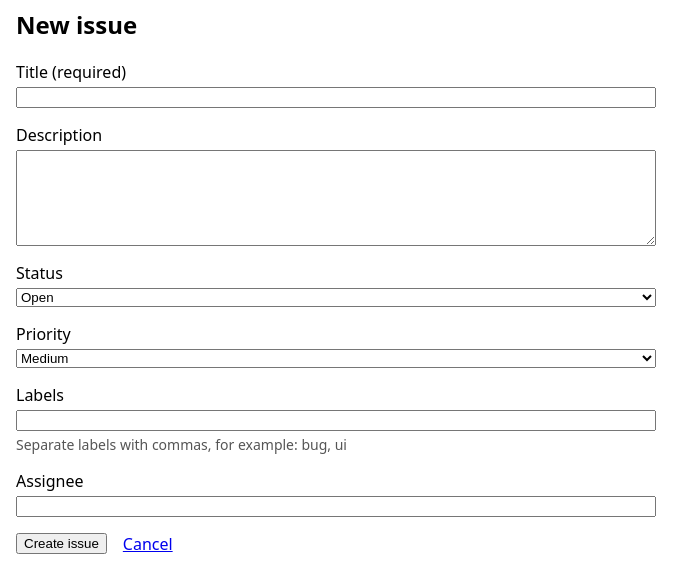
Test: IssueCreateView › disables the submit button while creating
In the field with id "issue-title": {"x": 336, "y": 97} [16, 87, 656, 108], type "Slow"
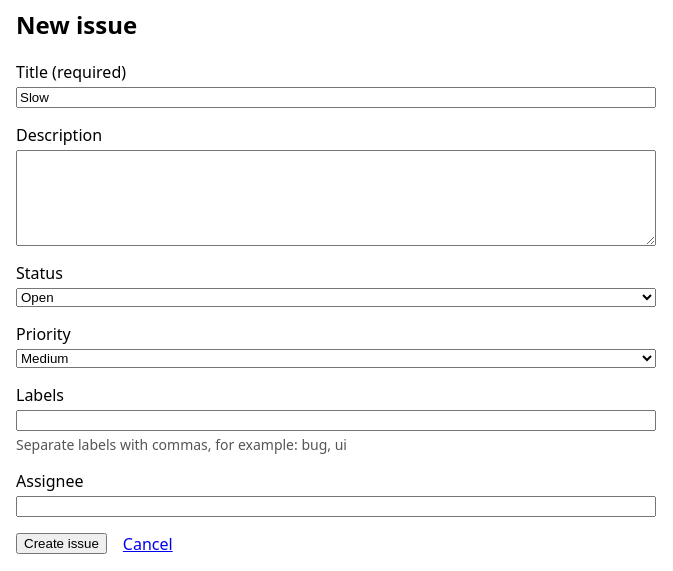
Submit the form
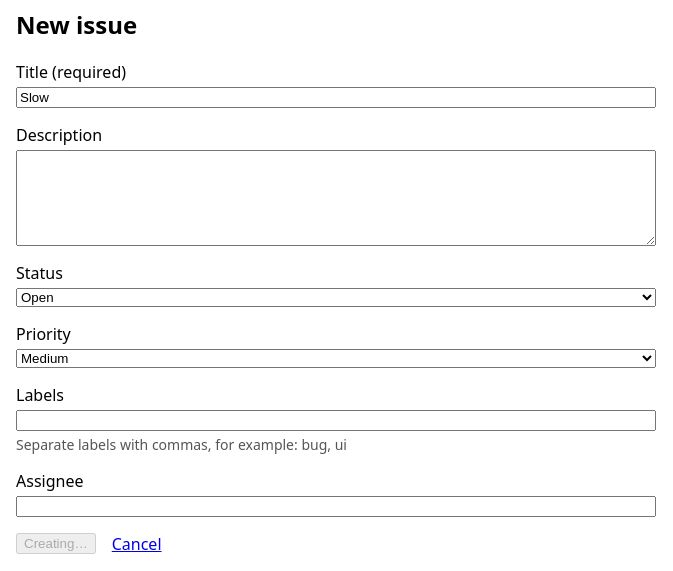
Expected: the submit button is disabled, [16, 533, 96, 554]
Expected: the submit button reads "Creating…", [16, 533, 96, 554]
